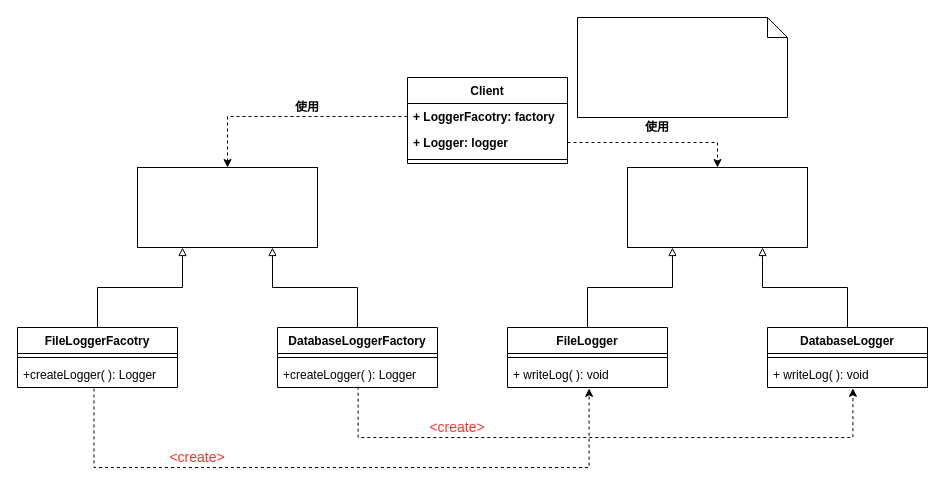
This 945x493 diagram has some shape labels left out. The shapes that lost their labels are listed below. From the top down, each one's centre as x and y in pixels, then its label:
At point (682, 67): "this.logger=facotry.createLogger( ) logger.writeLog()".
At point (227, 207): "<<Interface>> LoggerFactory + createLogger( ): Logger".
At point (717, 207): "<<Interface>> Logger + writeLog( ): void".
